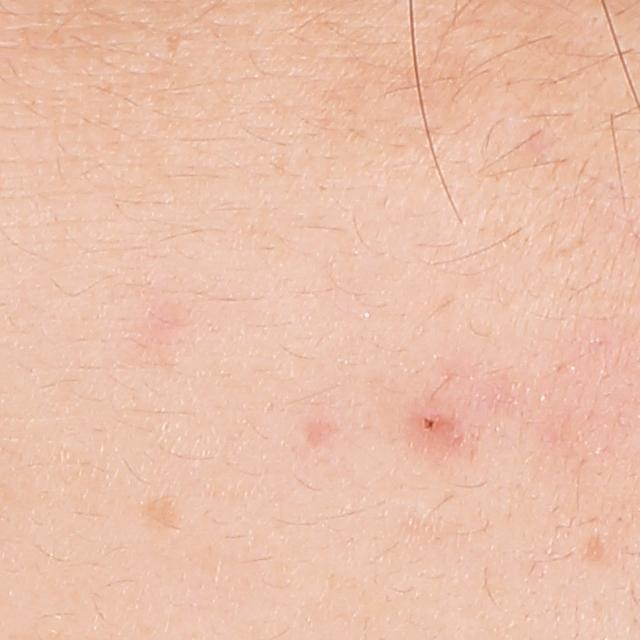atrophic_scar: (580, 532, 606, 563)
papule: (412, 400, 456, 444)
